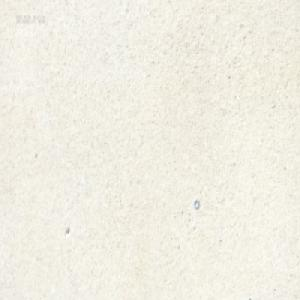Washer: (193, 198, 199, 209)
